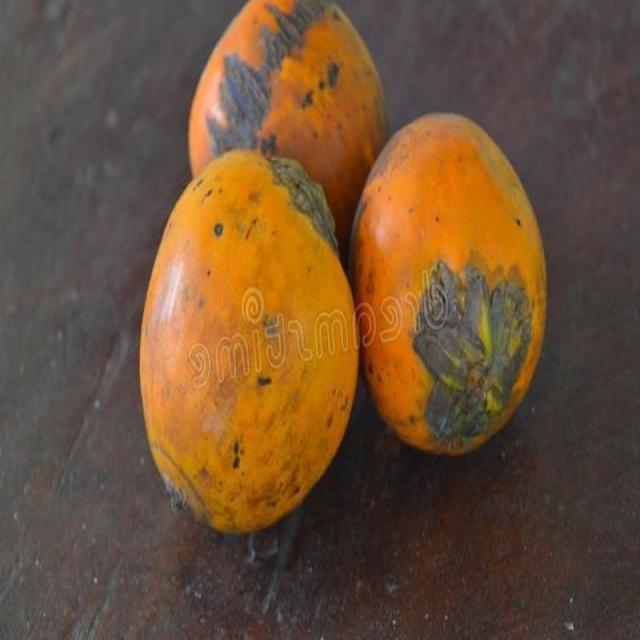good: (138, 149, 359, 538), (345, 113, 549, 460), (189, 0, 390, 261)
